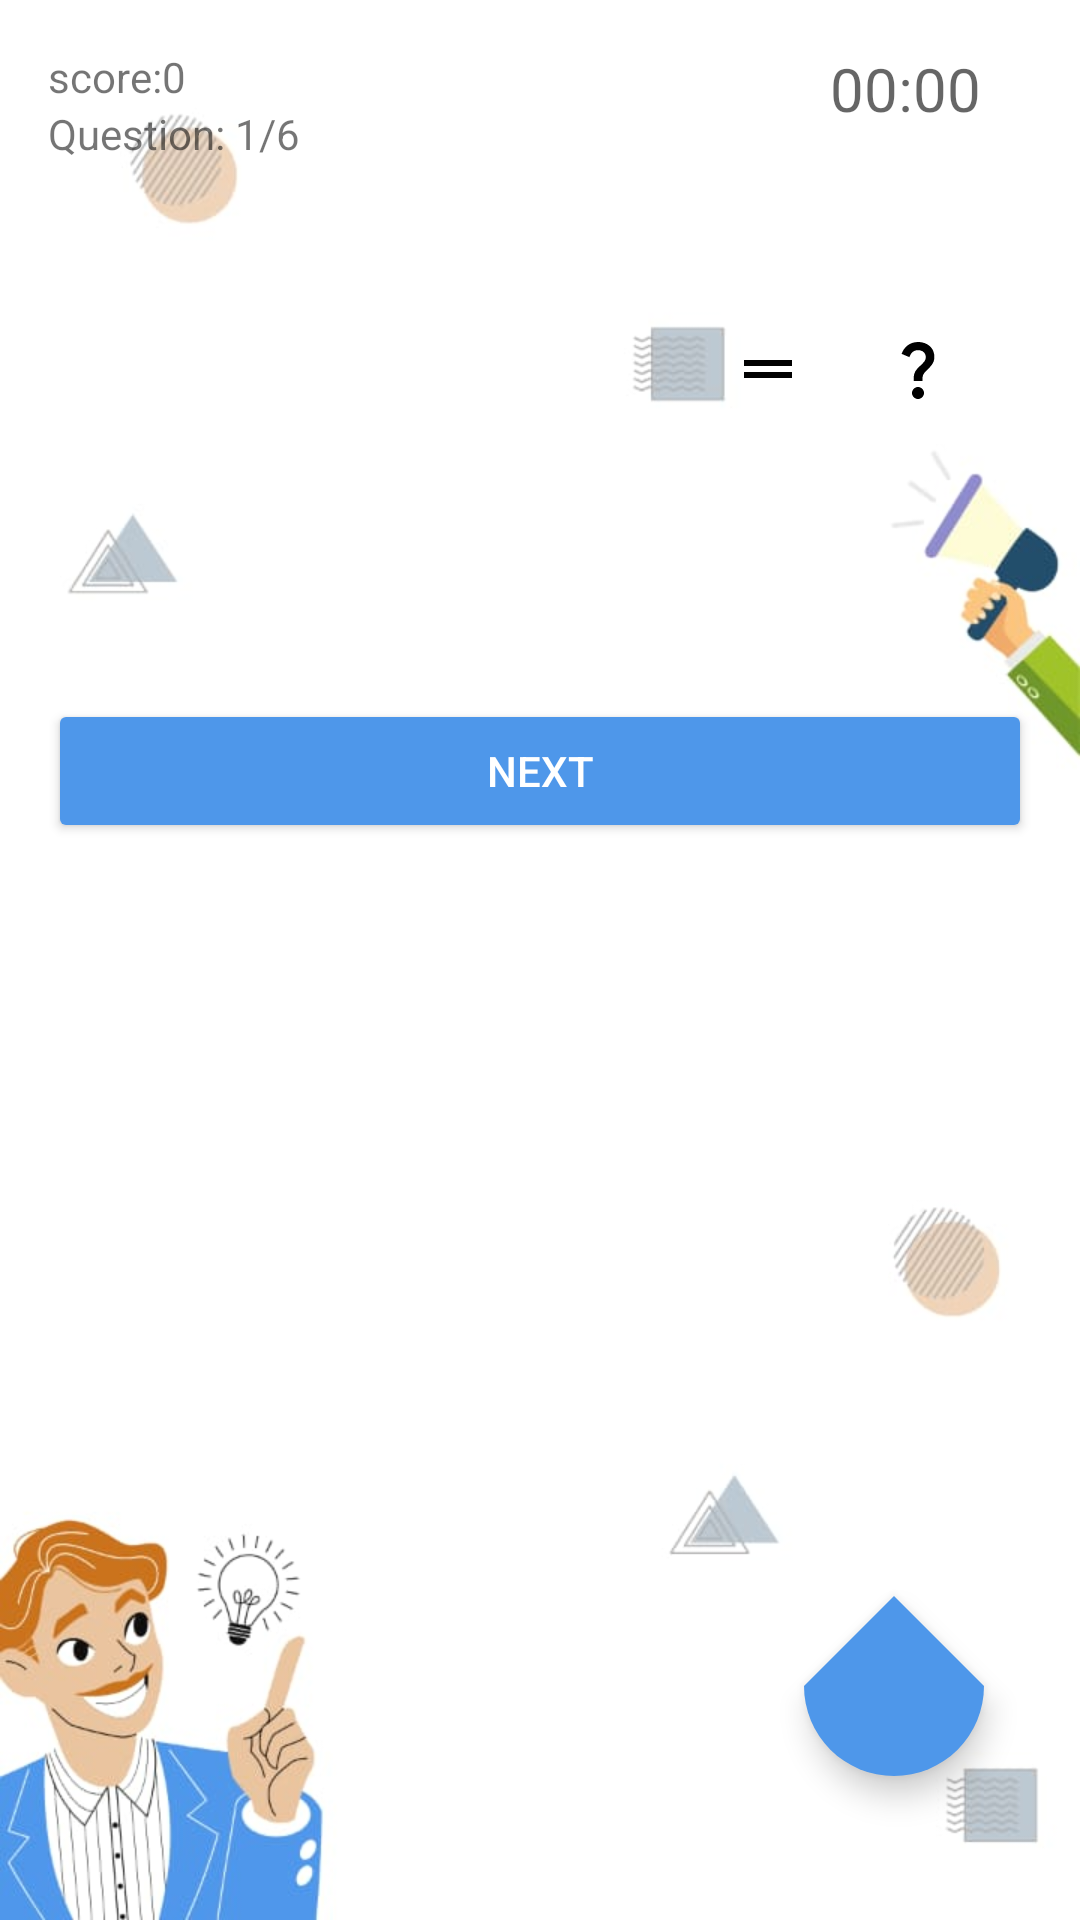

Icon click points for this 1080px x 1920px phone screenshot, format point (x, y):
equal sign: point (768, 369)
ques: point (918, 370)
